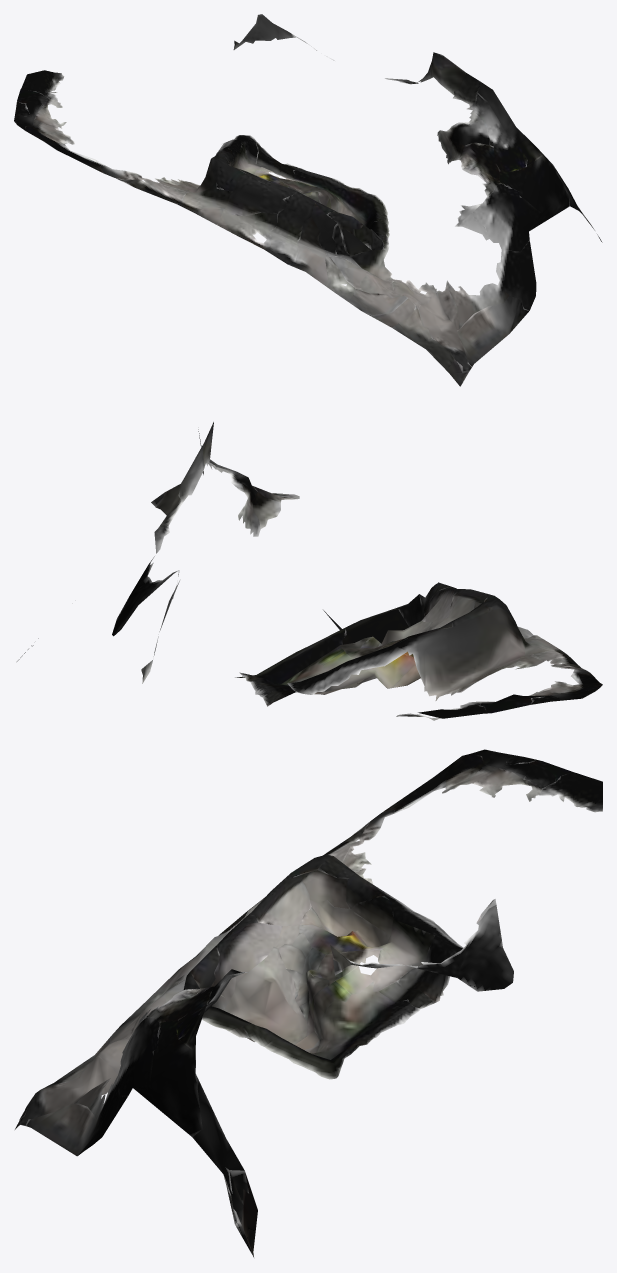
File: hall.glb
The picture shows the model from 3 angles, top to bottom: view 1: azimuth 30°, elevation 25°; view 2: azimuth 150°, elevation 25°; view 3: azimuth 270°, elevation 25°; orthographic projection. The views are drawn at different scales.
Size of the model in its own units: 1.21 by 0.5414 by 1.01.
Materials: 1 (1 with a texture image).
